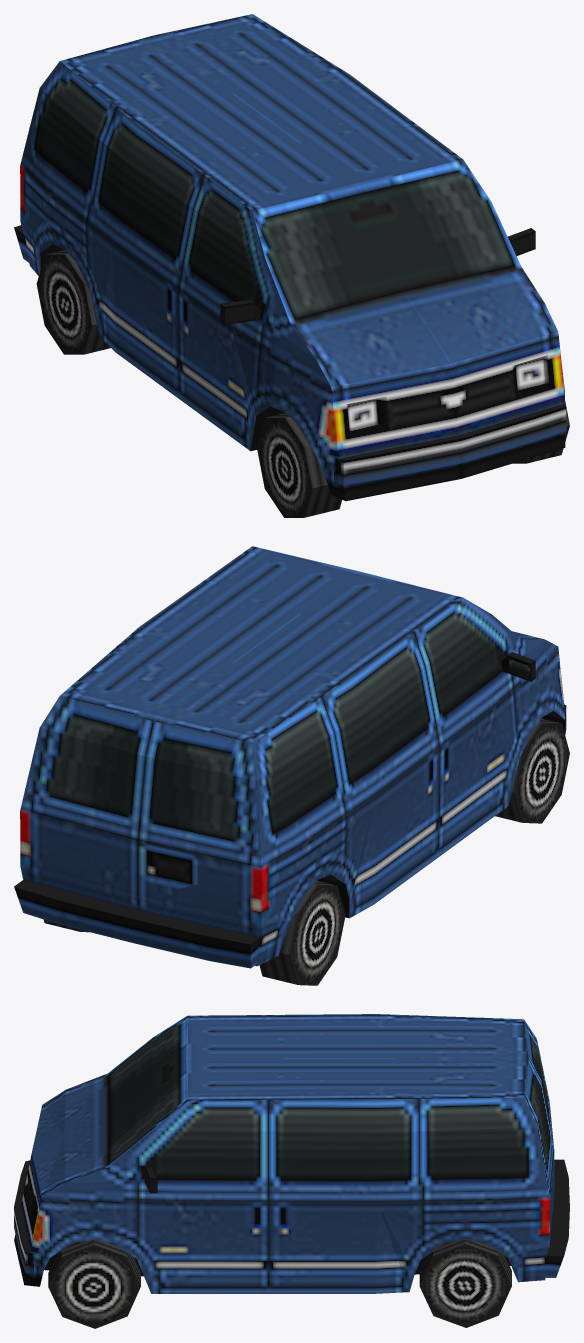
File: Auto5azul.fbx
The picture shows the model from 3 angles, top to bottom: view 1: azimuth 30°, elevation 25°; view 2: azimuth 150°, elevation 25°; view 3: azimuth 270°, elevation 25°; orthographic projection. The views are drawn at different scales.
Visible parts, largest first — view 1: Car4; view 2: Car4; view 3: Car4.
Part boxes in pixels (x1,y1,x2,y2): Car4: [14, 14, 569, 517]; Car4: [14, 546, 569, 985]; Car4: [14, 1014, 569, 1328].
Size of the model in its own units: 340 by 274 by 630.
1 material, 1 textured.
